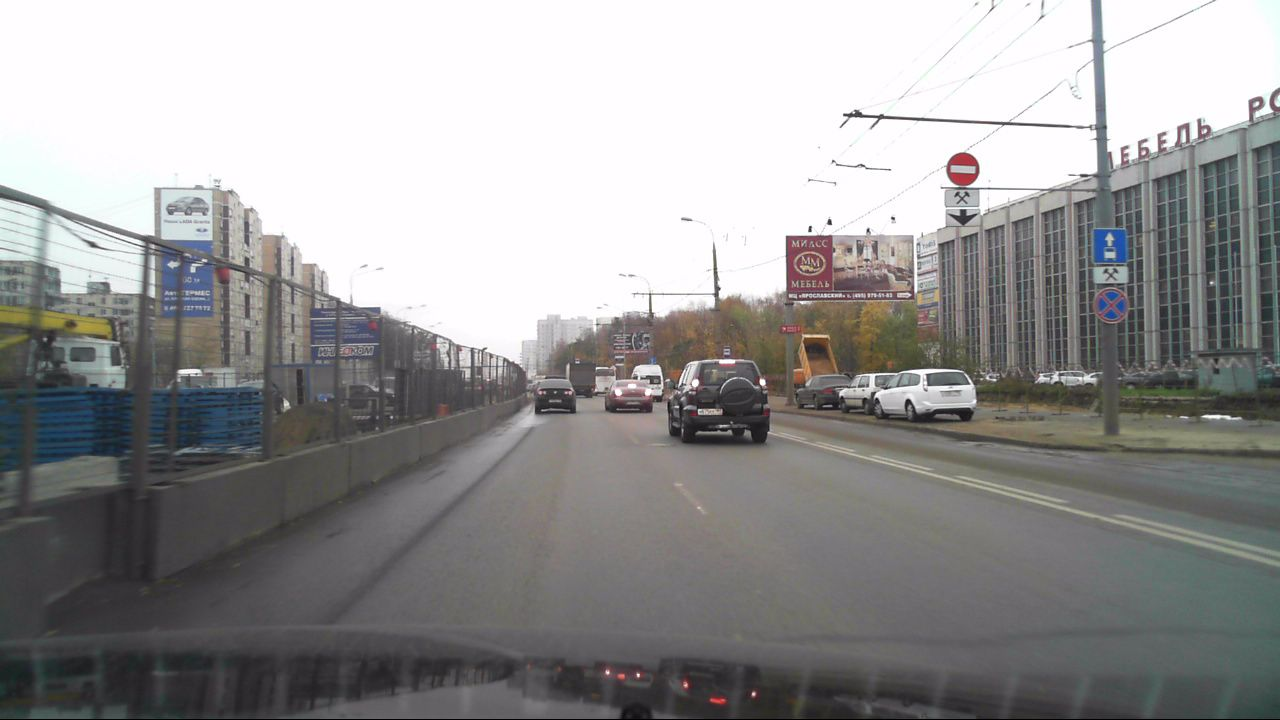No Parking: (1092, 288, 1129, 323)
